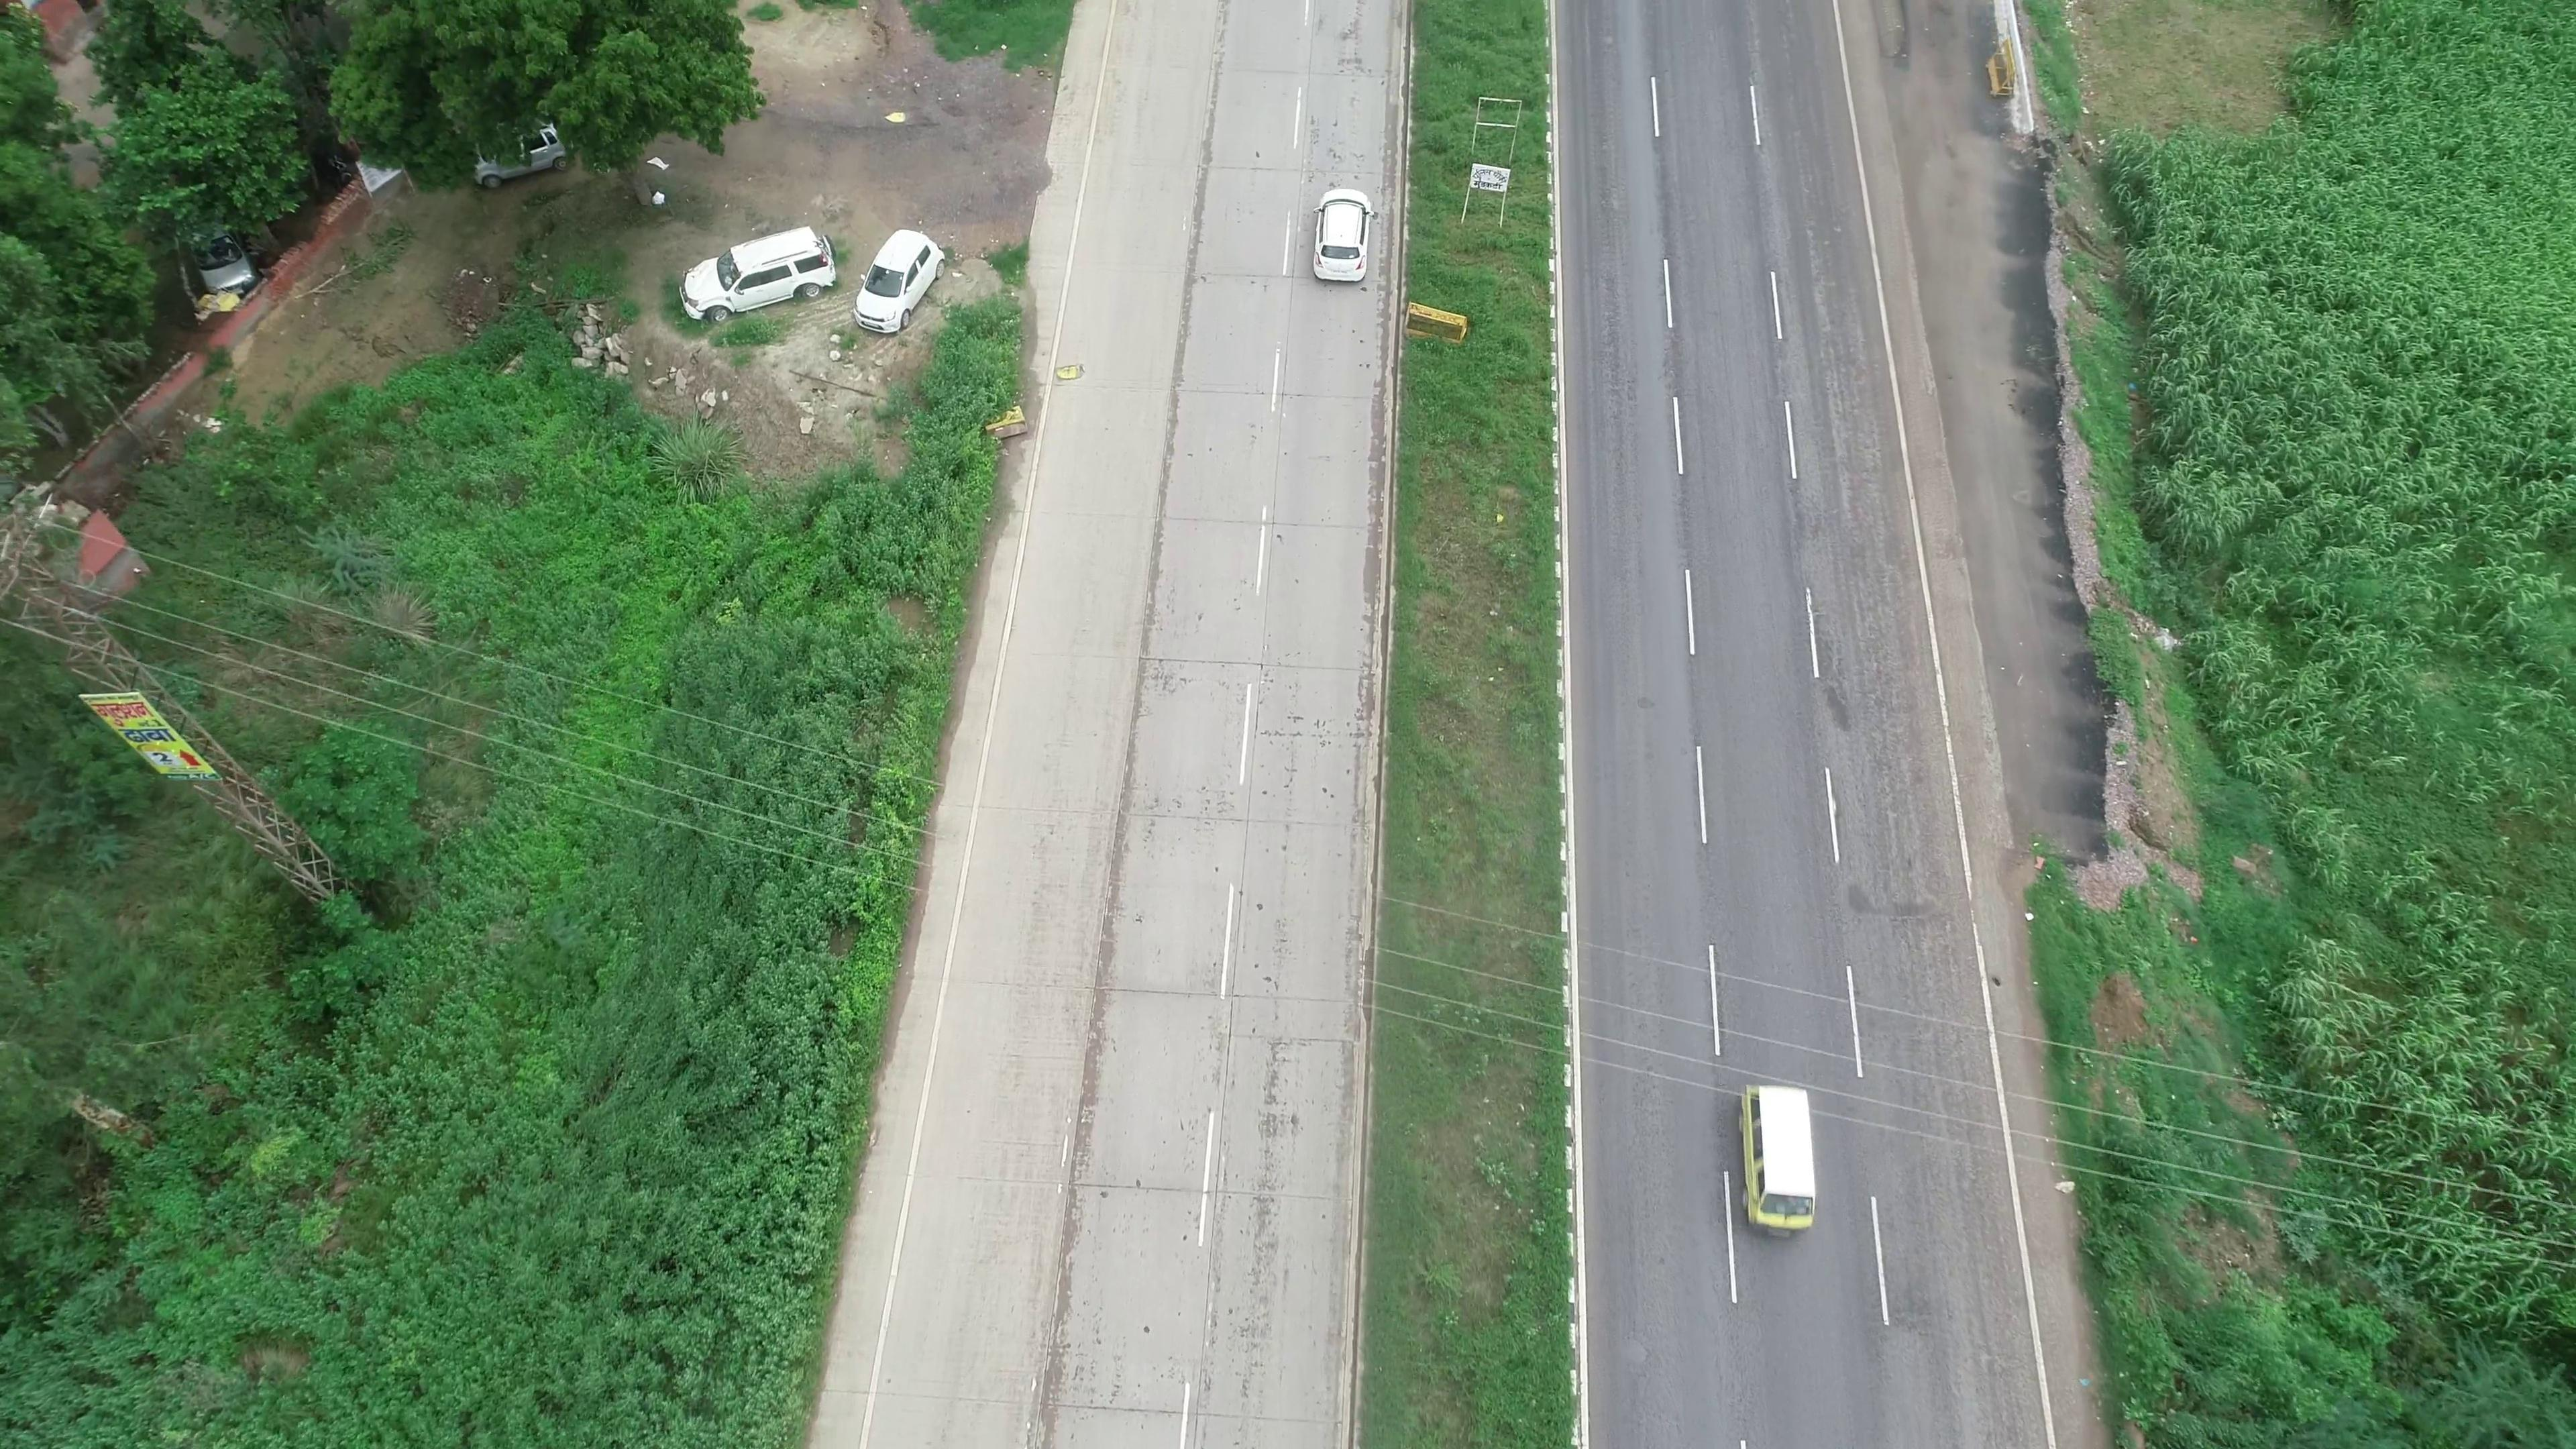Ravelling: (1582, 147, 1642, 488)
